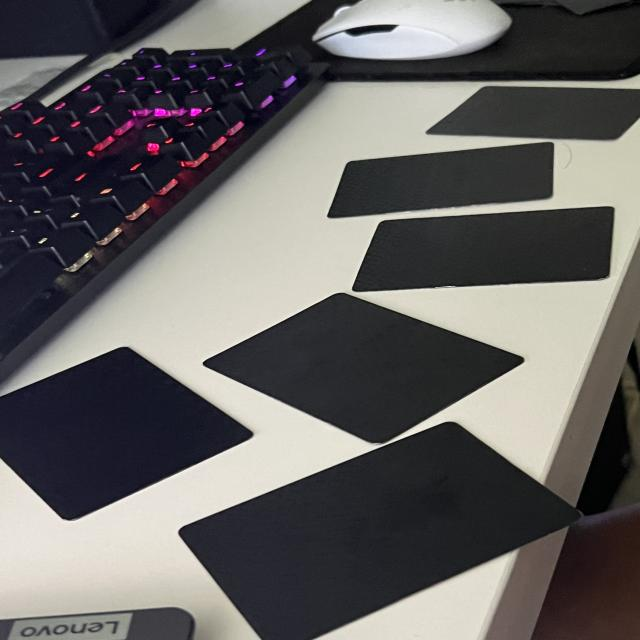BACK: (174, 417, 595, 640), (203, 287, 532, 448), (0, 339, 262, 522), (356, 198, 615, 289), (326, 138, 557, 218), (424, 80, 640, 142)
